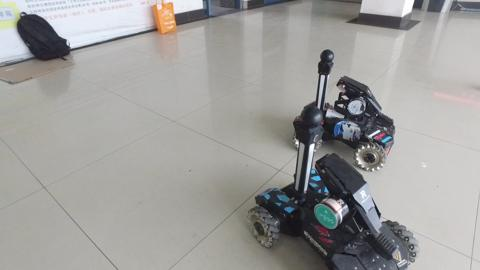bag: (11, 10, 78, 66)
chariot: (244, 103, 420, 270), (289, 47, 398, 173)
